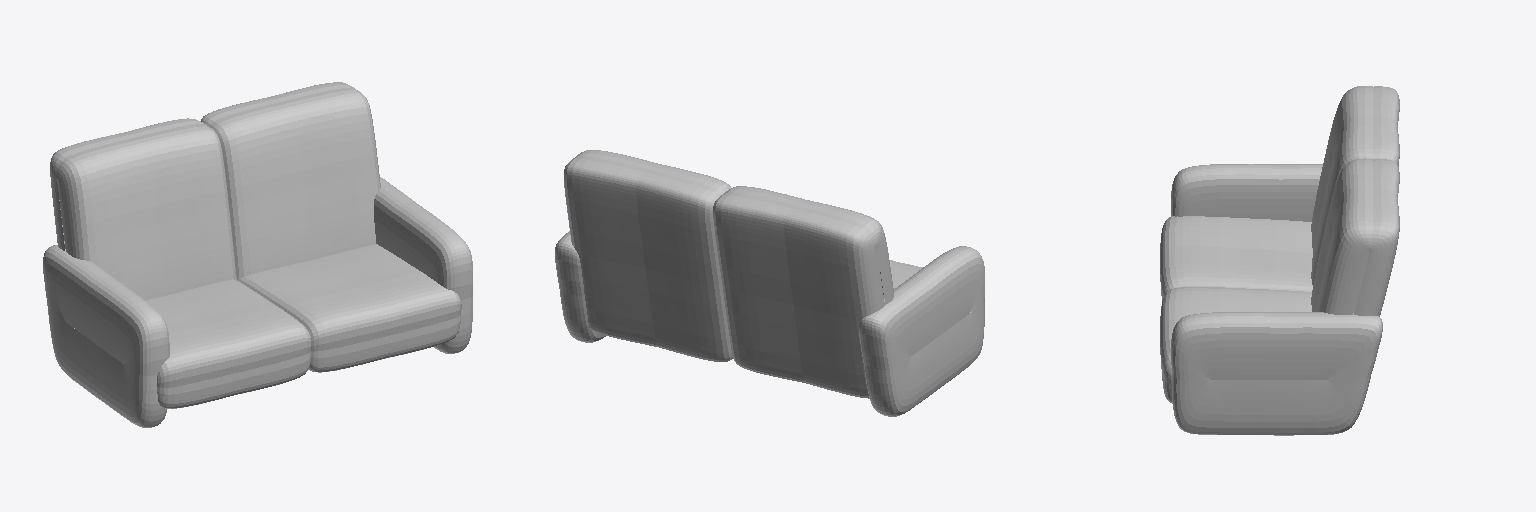
Rendered from sofa.obj.
The picture shows the model from 3 angles: view 1: azimuth 30°, elevation 25°; view 2: azimuth 150°, elevation 25°; view 3: azimuth 270°, elevation 25°; orthographic projection.
Parts seen in each view (by area): view 1: Assise_&_Dossier__Assise_&_Dossier__iris, Assise_&_Dossier_iris_Assise_&_Dossier_iris_iris, Accoudoir_iris_Accoud_Accoudoir_iris_Accoud_iris, Accoudoir_1_iris_Acco_Accoudoir_1_iris_Acco_iris; view 2: Assise_&_Dossier_iris_Assise_&_Dossier_iris_iris, Assise_&_Dossier__Assise_&_Dossier__iris, Accoudoir_iris_Accoud_Accoudoir_iris_Accoud_iris, Accoudoir_1_iris_Acco_Accoudoir_1_iris_Acco_iris; view 3: Accoudoir_1_iris_Acco_Accoudoir_1_iris_Acco_iris, Assise_&_Dossier_iris_Assise_&_Dossier_iris_iris, Assise_&_Dossier__Assise_&_Dossier__iris, Accoudoir_iris_Accoud_Accoudoir_iris_Accoud_iris.
Part boxes in pixels (x1,y1,x2,y2): Assise_&_Dossier__Assise_&_Dossier__iris: (201,82,461,372); Assise_&_Dossier_iris_Assise_&_Dossier_iris_iris: (50,118,310,408); Accoudoir_iris_Accoud_Accoudoir_iris_Accoud_iris: (43,245,169,427); Accoudoir_1_iris_Acco_Accoudoir_1_iris_Acco_iris: (374,177,472,353); Assise_&_Dossier_iris_Assise_&_Dossier_iris_iris: (713,186,922,398); Assise_&_Dossier__Assise_&_Dossier__iris: (564,150,732,361); Accoudoir_iris_Accoud_Accoudoir_iris_Accoud_iris: (859,246,984,416); Accoudoir_1_iris_Acco_Accoudoir_1_iris_Acco_iris: (555,231,605,342); Accoudoir_1_iris_Acco_Accoudoir_1_iris_Acco_iris: (1171,312,1382,435); Assise_&_Dossier_iris_Assise_&_Dossier_iris_iris: (1160,86,1399,311); Assise_&_Dossier__Assise_&_Dossier__iris: (1160,158,1399,403); Accoudoir_iris_Accoud_Accoudoir_iris_Accoud_iris: (1171,164,1322,221).
Size of the model in its own units: 3.39 by 2 by 2.1.